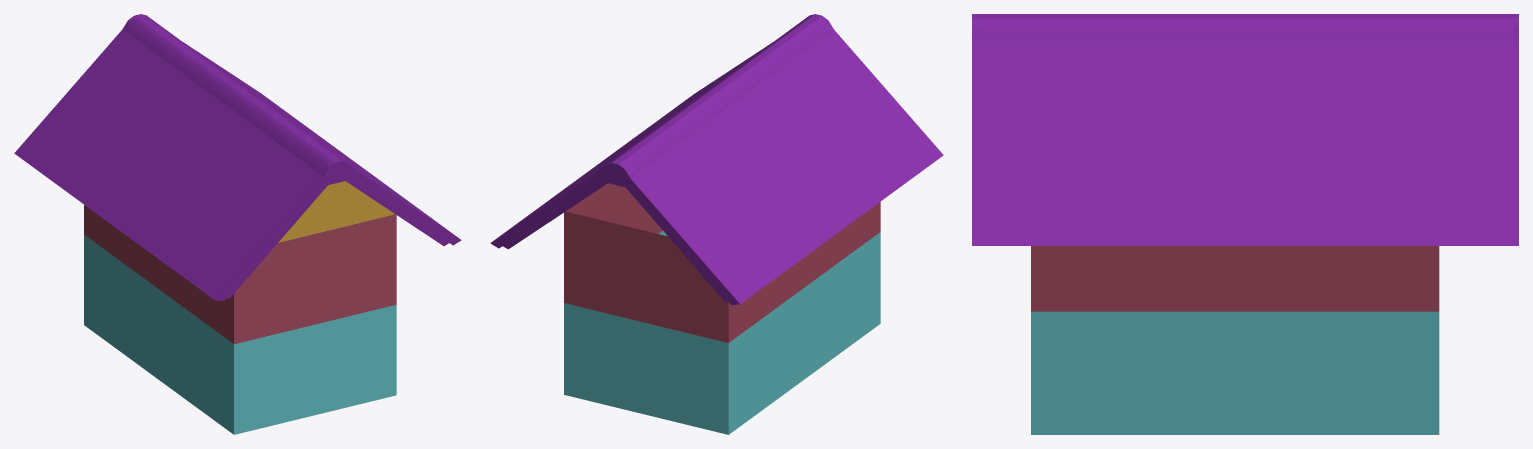
File: model_House3_low.fbx
3 renders of one model, left to right at view 1: azimuth 30°, elevation 25°; view 2: azimuth 150°, elevation 25°; view 3: azimuth 270°, elevation 25°, orthographic. The views are drawn at different scales.
Visible parts, largest first — view 1: pasted__roof_top1, pasted__house_wall2, pasted__house_wall3, pasted__roof_face1; view 2: pasted__roof_top1, pasted__house_wall2, pasted__house_wall3; view 3: pasted__roof_top1, pasted__house_wall2, pasted__house_wall3.
Boxes of the visible parts, <box> form: pasted__roof_top1: <box>14,14,461,301</box>; pasted__house_wall2: <box>84,234,396,434</box>; pasted__house_wall3: <box>84,205,396,344</box>; pasted__roof_face1: <box>278,181,394,242</box>; pasted__roof_top1: <box>490,14,943,305</box>; pasted__house_wall2: <box>564,231,880,434</box>; pasted__house_wall3: <box>564,183,880,342</box>; pasted__roof_top1: <box>972,14,1518,245</box>; pasted__house_wall2: <box>1031,311,1439,434</box>; pasted__house_wall3: <box>1031,246,1439,311</box>.
Size of the model in its own units: 570 by 593 by 803.
